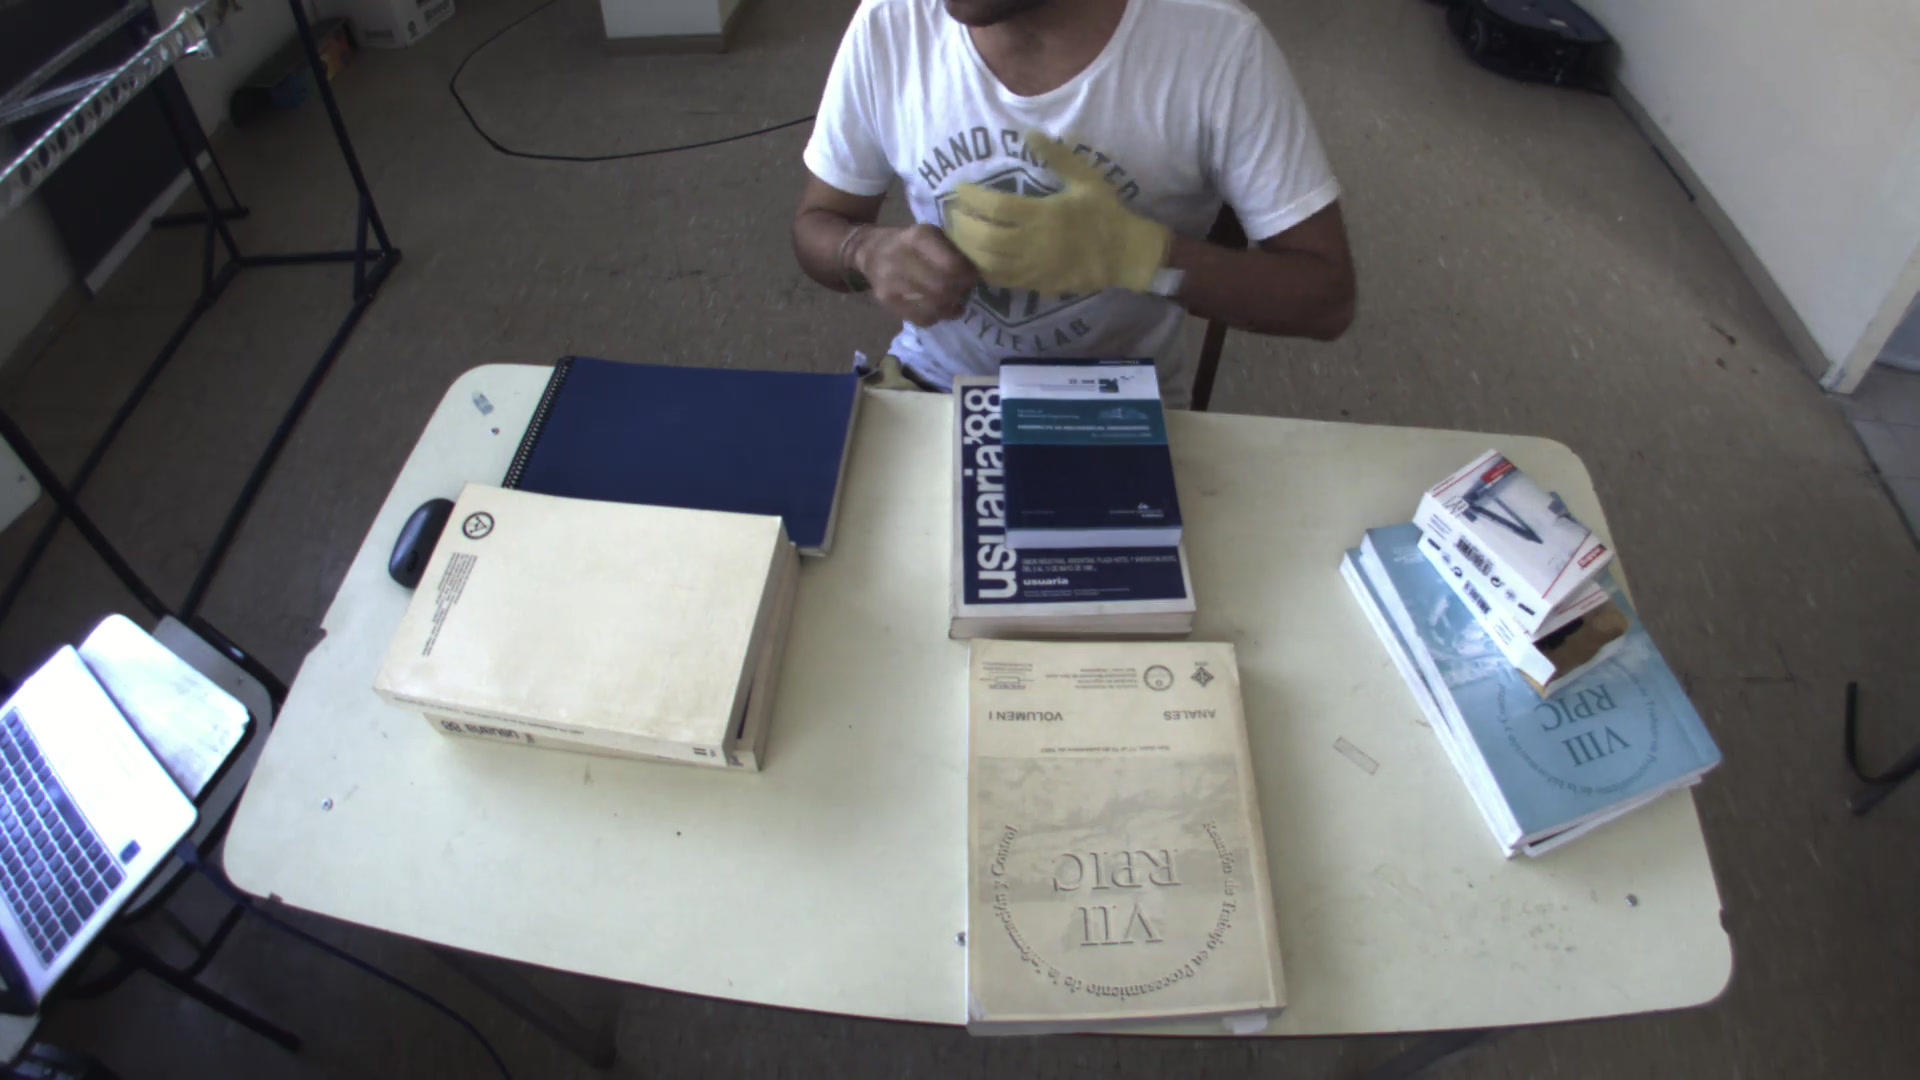hand: (938, 124, 1183, 301), (822, 210, 982, 320)
